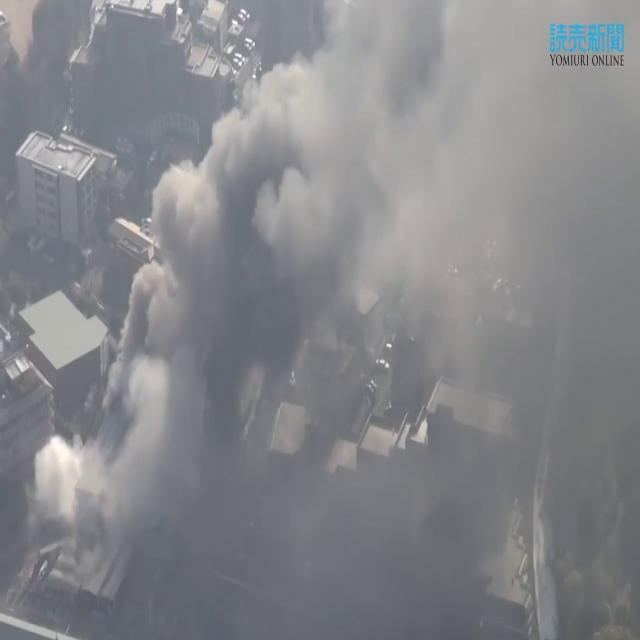Smoke: (95, 0, 638, 637)
